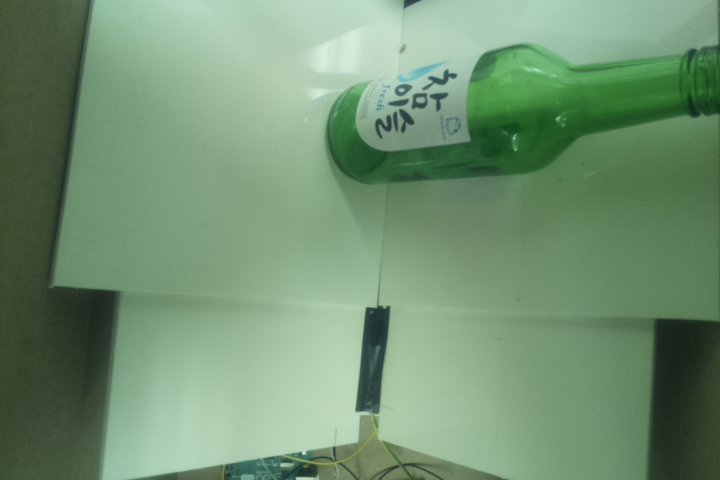soju: (322, 36, 720, 186)
